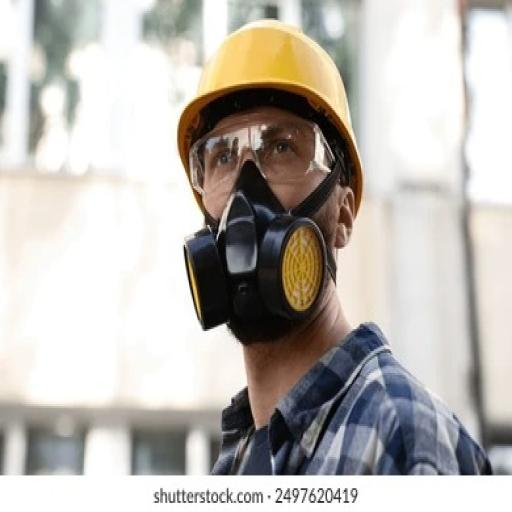mask: (162, 178, 334, 338)
